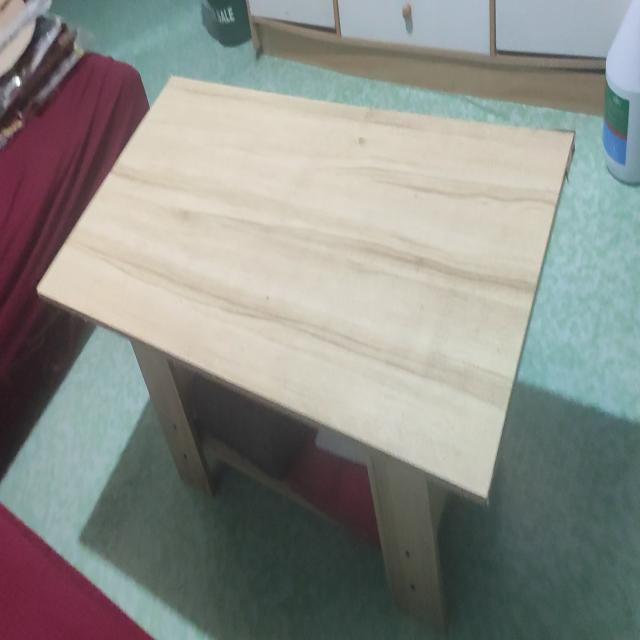table: (37, 74, 573, 636)
